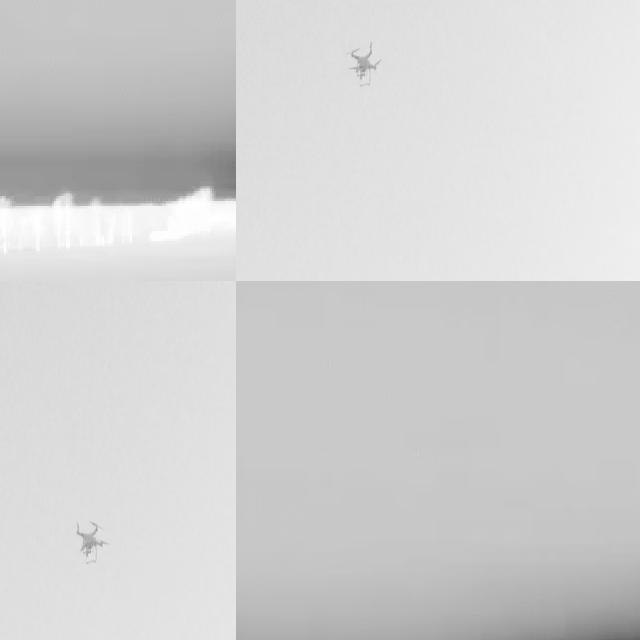drone: (72, 517, 111, 566), (345, 38, 381, 88)
